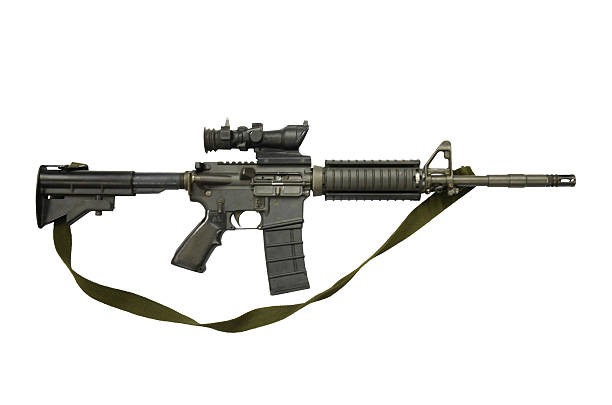rifle: (27, 121, 585, 312)
